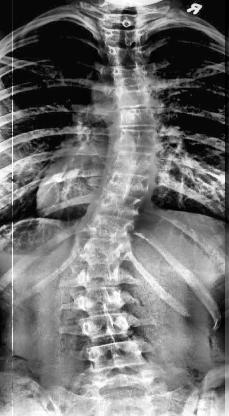Vertebrae: (83, 339, 151, 373), (76, 260, 132, 290), (75, 231, 133, 259), (73, 287, 131, 313), (78, 314, 132, 340), (104, 170, 154, 198), (98, 189, 140, 221), (113, 148, 156, 178), (82, 209, 134, 233), (118, 128, 160, 152), (108, 47, 148, 69), (120, 107, 158, 130), (112, 68, 154, 88), (114, 90, 158, 108), (103, 29, 144, 47)
